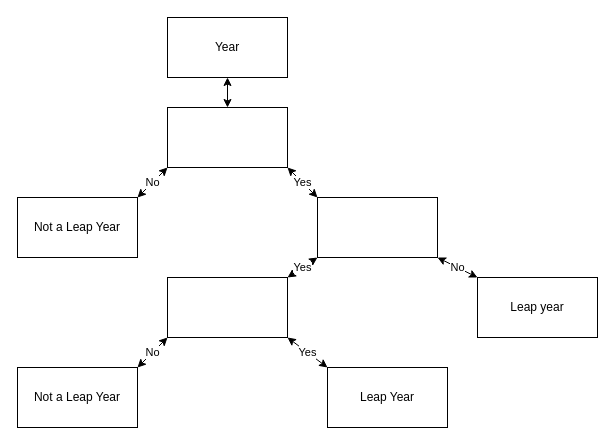
Image size: 615x445. Some labels were removed from this diagram. The shapes that lost their labels are listed below. From the top down, each one's centre as x and y in pixels, then its label:
At [227,137]: "Is it evenly divisible by 4?".
At [377,227]: "Is it evenly divisible by 100?".
At [227,307]: "Is it evenly divisible by 400?".
